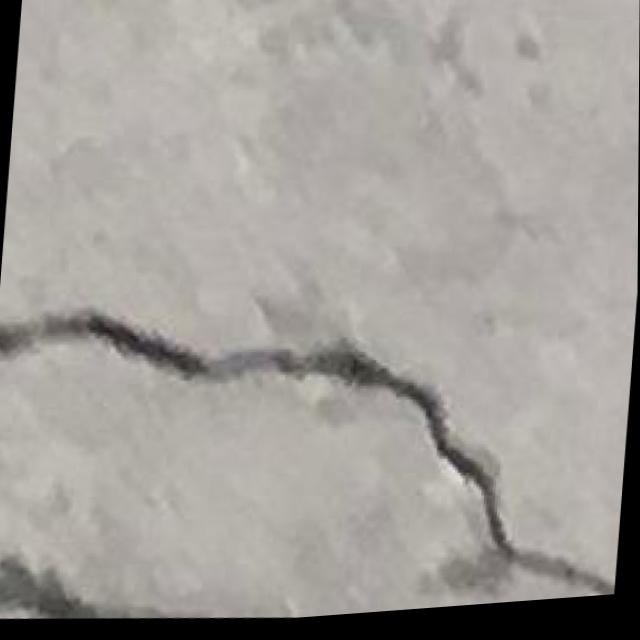Crack: (0, 256, 637, 640)
